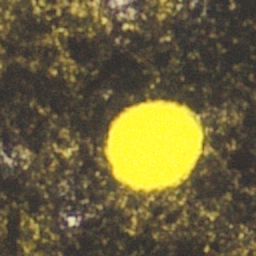air_pores: (104, 100, 205, 194)
cement_matrix: (0, 0, 255, 255), (103, 99, 206, 195), (71, 218, 75, 223)
cracks: (92, 0, 100, 2)
gravel_crushed_stones: (111, 0, 127, 6), (72, 219, 74, 222)
